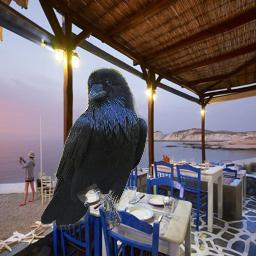Crow: (41, 67, 148, 230)
